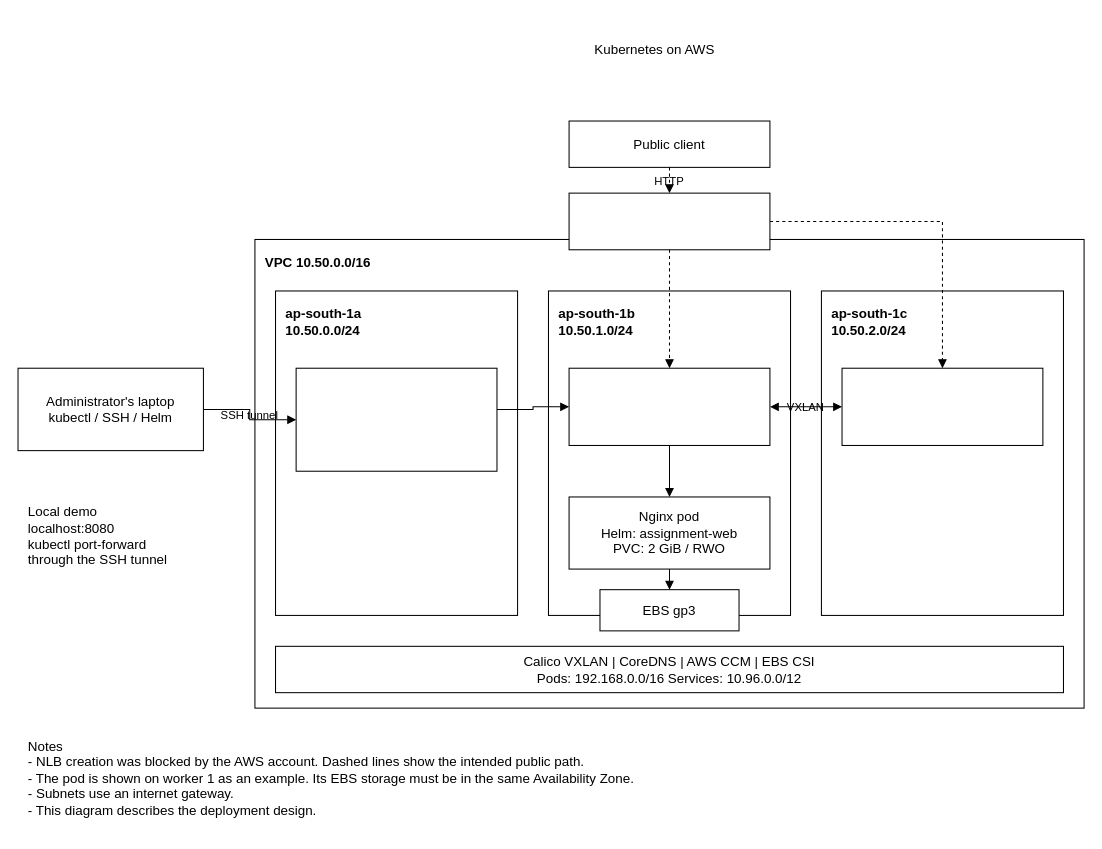
Some shapes in this 1102 by 849 pixel diagram are drawn without their labels. Here are the shapes that lost their labels. From the top down, the centre of each, then its label:
At point (669, 221): "Network Load Balancer Service :80 -> NodePort".
At point (396, 419): "Control plane EC2 / kubeadm 10.50.0.10 API :6443 + etcd".
At point (669, 406): "Worker 1 EC2 / kubelet / containerd".
At point (942, 406): "Worker 2 EC2 / kubelet / containerd".
